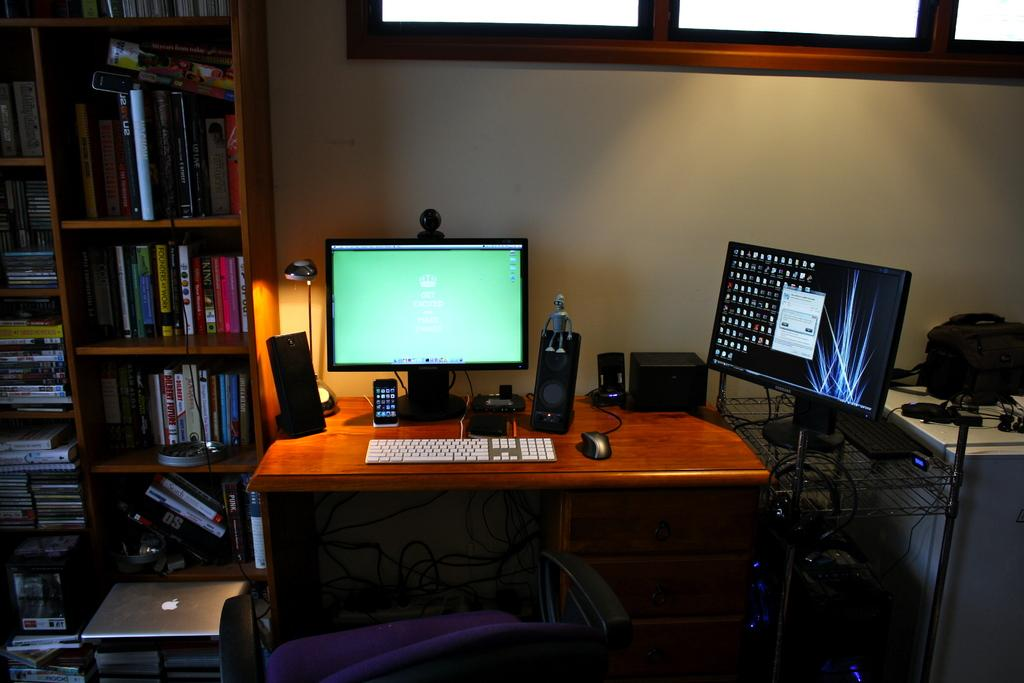Book: (17, 30, 231, 220), (7, 574, 220, 682), (82, 236, 253, 349), (116, 475, 271, 575), (102, 363, 252, 457), (0, 420, 77, 536), (0, 305, 72, 411), (0, 172, 58, 294), (1, 0, 234, 17), (2, 70, 42, 160)
Chair: (212, 544, 703, 680)
Computer-keyboard: (362, 434, 554, 463)
Computer-monitor: (704, 241, 913, 459), (324, 237, 534, 422)
